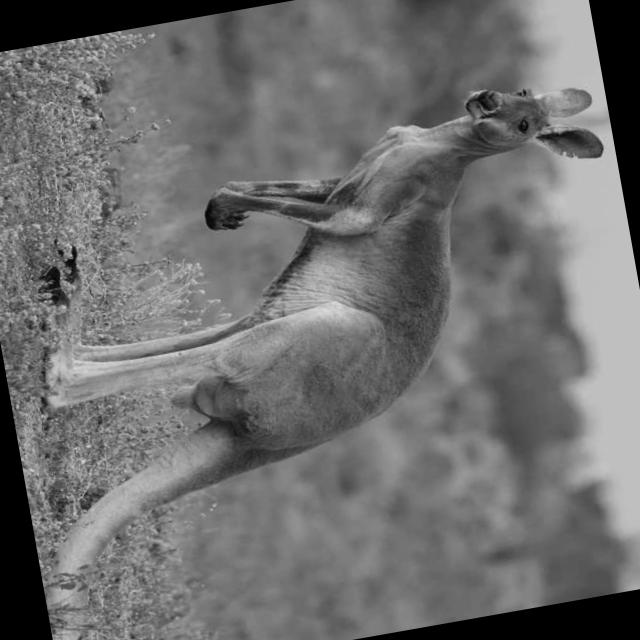Animals: (0, 42, 640, 526)
